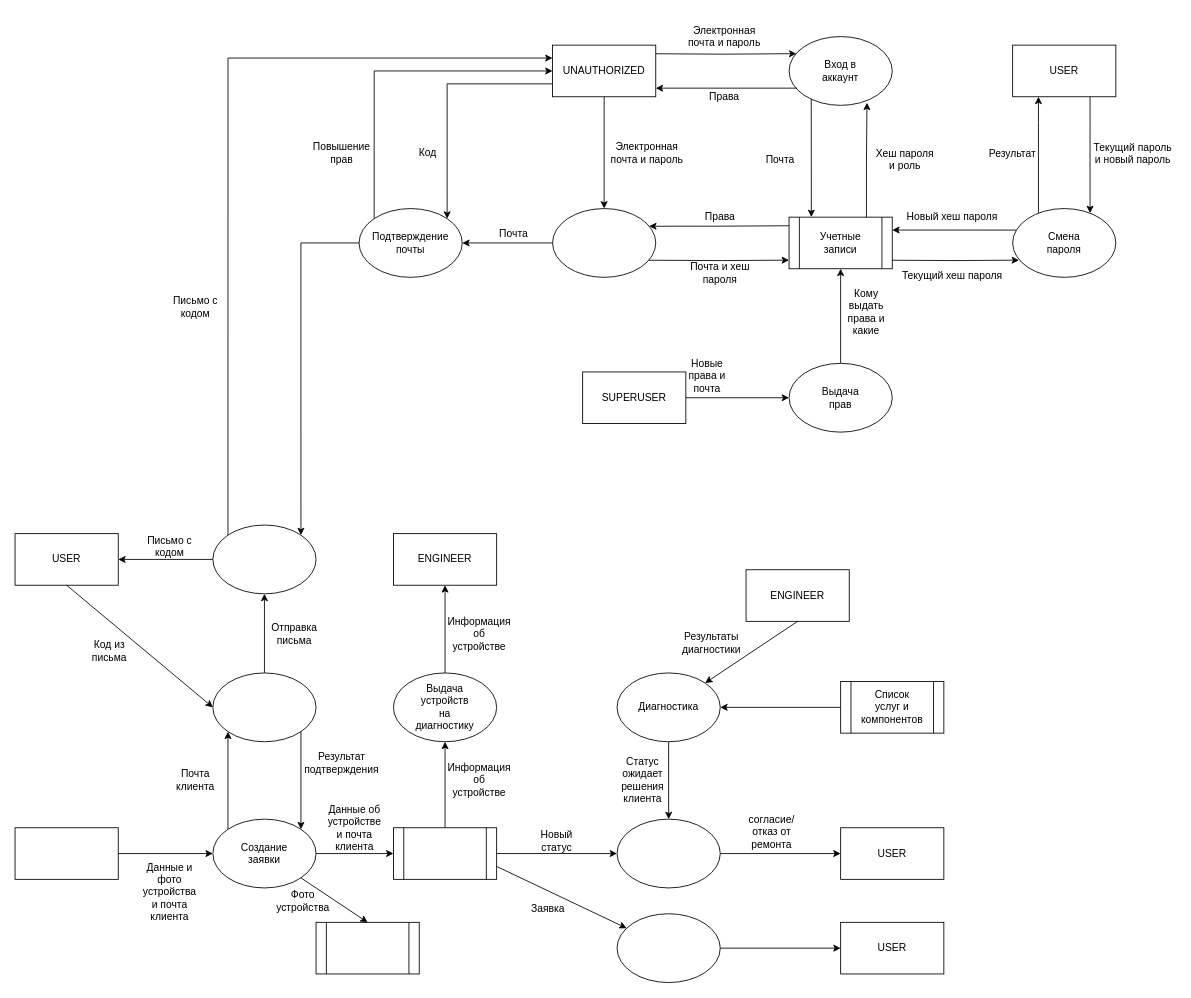
The diagram is 1191 pixels wide and 998 high, and some of its shapes have lost their labels. The box of each missing label's shape, as (x1, y1, x2, y2) in pixels:
ADMIN: (14, 827, 118, 879)
Заявки: (393, 827, 497, 879)
Обработчик статусов: (616, 818, 720, 888)
Подтверждение владения аккаунтом: (212, 672, 316, 742)
Получение информации о заявке: (616, 913, 720, 983)
Рассылка писем: (212, 524, 316, 594)
Регистрация аккаунта: (552, 208, 656, 277)
Фотографии: (315, 921, 419, 974)
